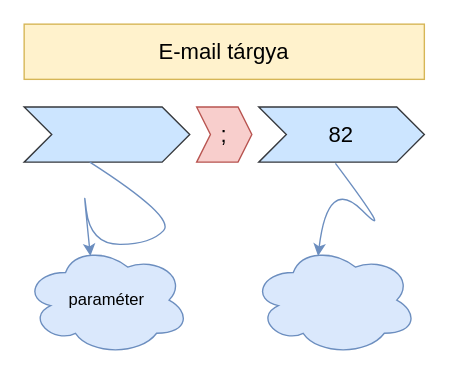
Image size: 449x380. Some labels were removed from this diagram. The shapes that lost their labels are listed below. From the top down, each one's box as (x1, y1, x2, y2) in pixels, then its label:
(23, 106, 190, 162): info
(250, 244, 417, 355): ticket száma
